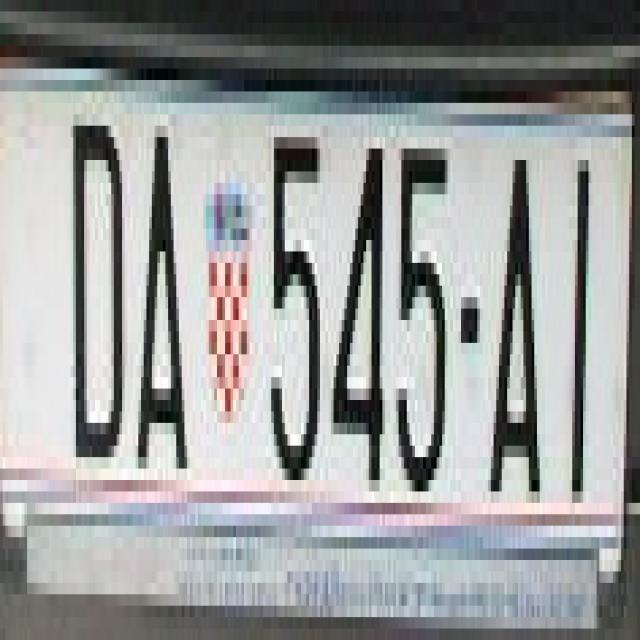4: (328, 103, 385, 480)
5: (393, 102, 448, 514), (266, 103, 322, 480)
A: (480, 126, 545, 503), (136, 114, 192, 469)
D: (74, 114, 128, 457)
